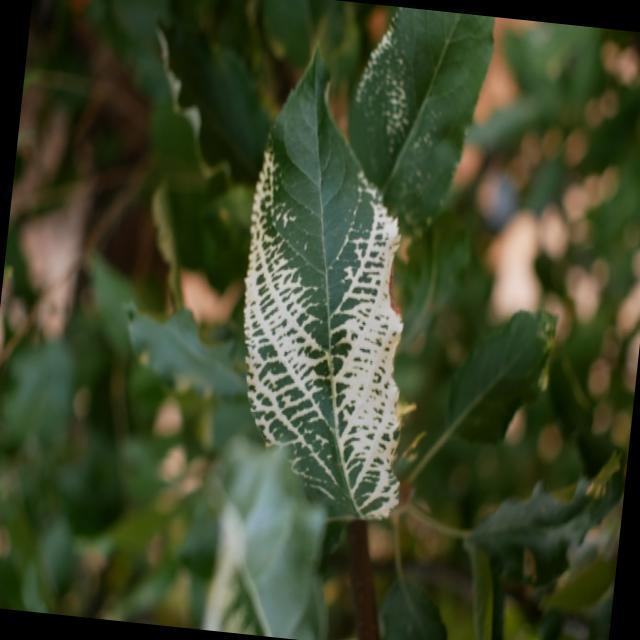Mosaic Virus: (224, 34, 416, 553)
